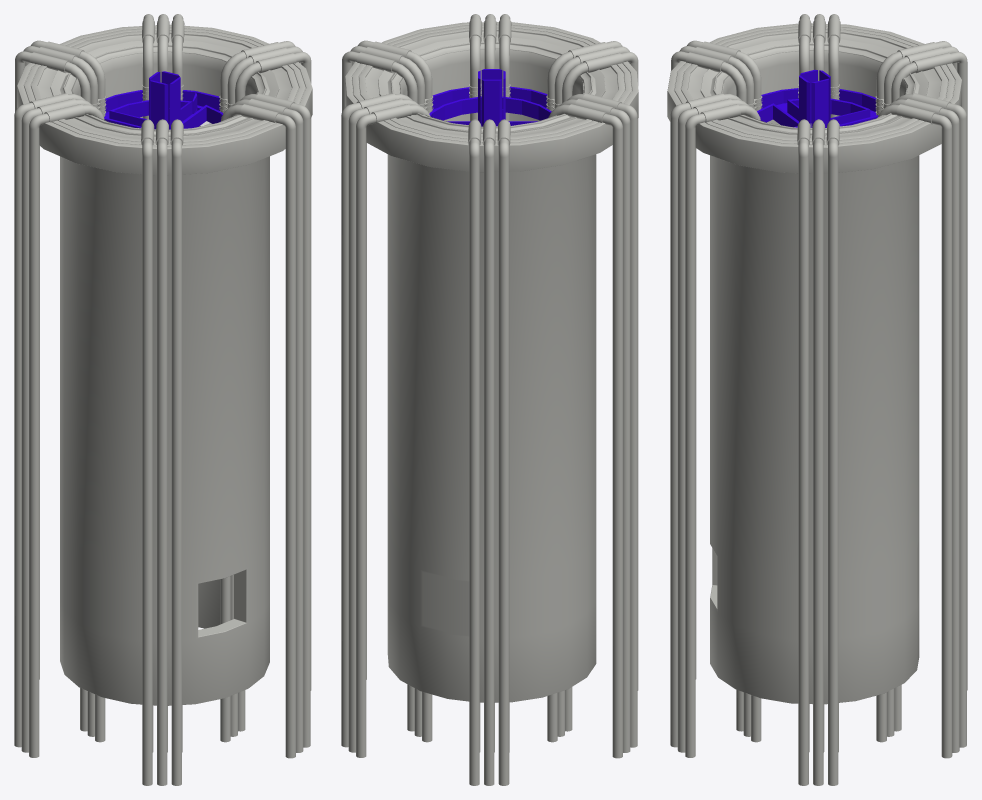
File: HeavyVentStructure.fbx
The picture shows the model from 3 angles, left to right: view 1: azimuth 30°, elevation 25°; view 2: azimuth 150°, elevation 25°; view 3: azimuth 270°, elevation 25°; orthographic projection.
Visible parts, largest first — view 1: HeavyVentStructure, FinishTunelVentDetail, Heavy_Vent_Halls; view 2: HeavyVentStructure, FinishTunelVentDetail, Heavy_Vent_Halls; view 3: HeavyVentStructure, FinishTunelVentDetail, Heavy_Vent_Halls.
Part boxes in pixels (left/top/right/bottom): HeavyVentStructure: left=17, top=24, right=312, bottom=705; FinishTunelVentDetail: left=14, top=14, right=311, bottom=785; Heavy_Vent_Halls: left=104, top=71, right=223, bottom=129; HeavyVentStructure: left=345, top=22, right=638, bottom=702; FinishTunelVentDetail: left=341, top=14, right=638, bottom=785; Heavy_Vent_Halls: left=429, top=69, right=551, bottom=126; HeavyVentStructure: left=667, top=23, right=961, bottom=704; FinishTunelVentDetail: left=670, top=14, right=967, bottom=785; Heavy_Vent_Halls: left=757, top=69, right=878, bottom=127.
Bounding box in the file's own units: 15407 × 33669 × 14278.
